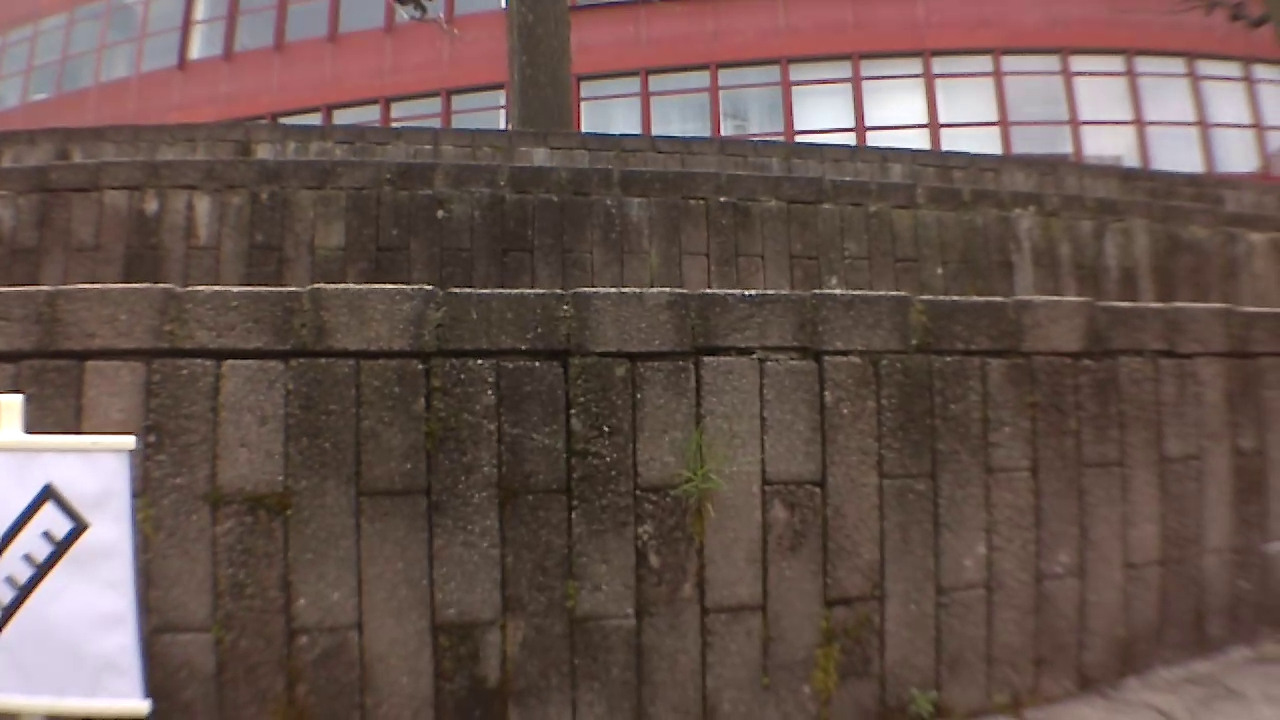ruler: (0, 486, 92, 642)
